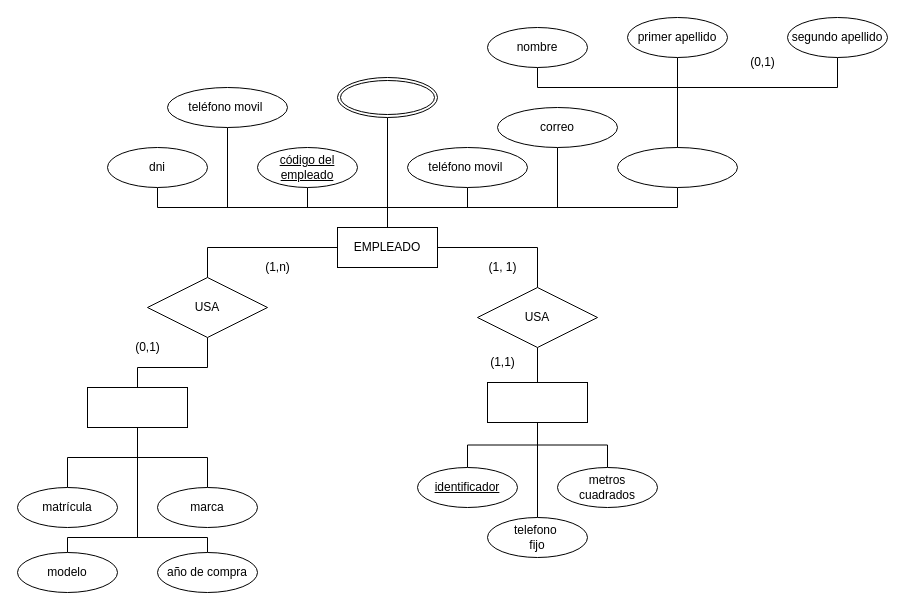
Image size: 905x610. Some labels were removed from this diagram. The centre of each missing label's shape, as x and y in pixels:
"DESPACHO INDIVIDUAL" belongs at point 537,402.
"nacionalidad" belongs at point 387,97.
"nombre completo" belongs at point 677,167.
"VEHICULO" belongs at point 137,407.
